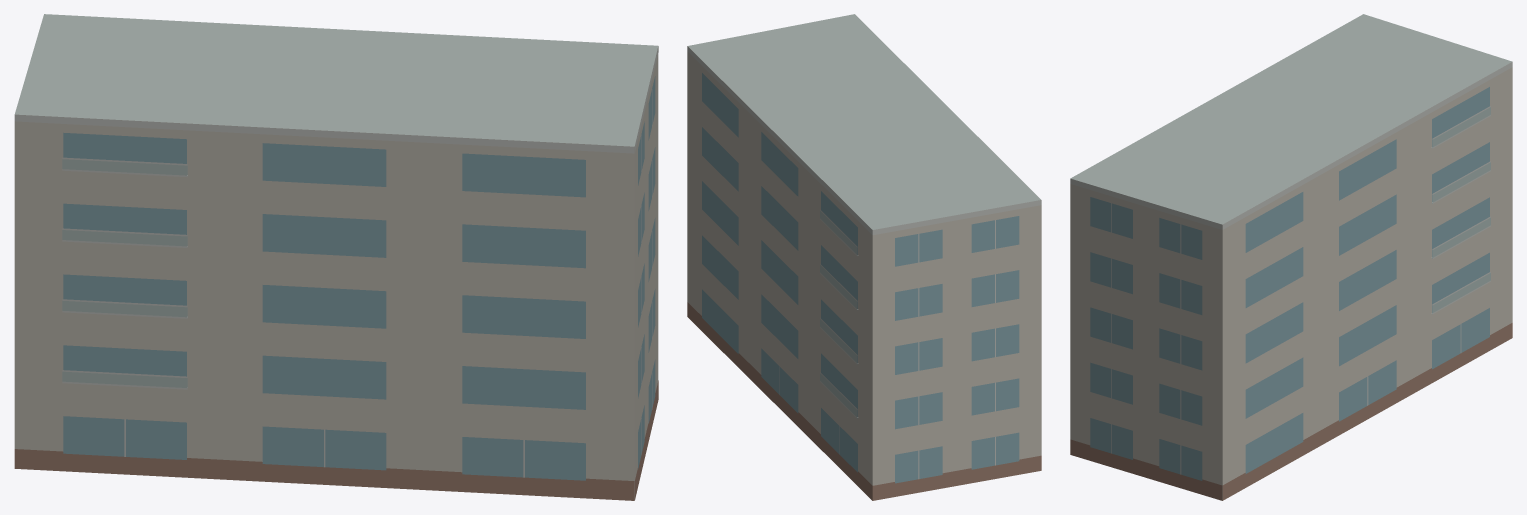
The model's file is survey-upis-32630187.glb.
The picture shows the model from 3 angles, left to right: view 1: azimuth 30°, elevation 25°; view 2: azimuth 150°, elevation 25°; view 3: azimuth 270°, elevation 25°; orthographic projection. The views are drawn at different scales.
Visible parts, largest first — view 1: survey-upis-32630187.tmp; view 2: survey-upis-32630187.tmp; view 3: survey-upis-32630187.tmp.
Part boxes in pixels (left/top/right/bottom): survey-upis-32630187.tmp: left=14, top=14, right=658, bottom=500; survey-upis-32630187.tmp: left=687, top=14, right=1041, bottom=500; survey-upis-32630187.tmp: left=1070, top=14, right=1512, bottom=500.
Bounding box in the file's own units: 20.53 × 12.55 × 18.22.
